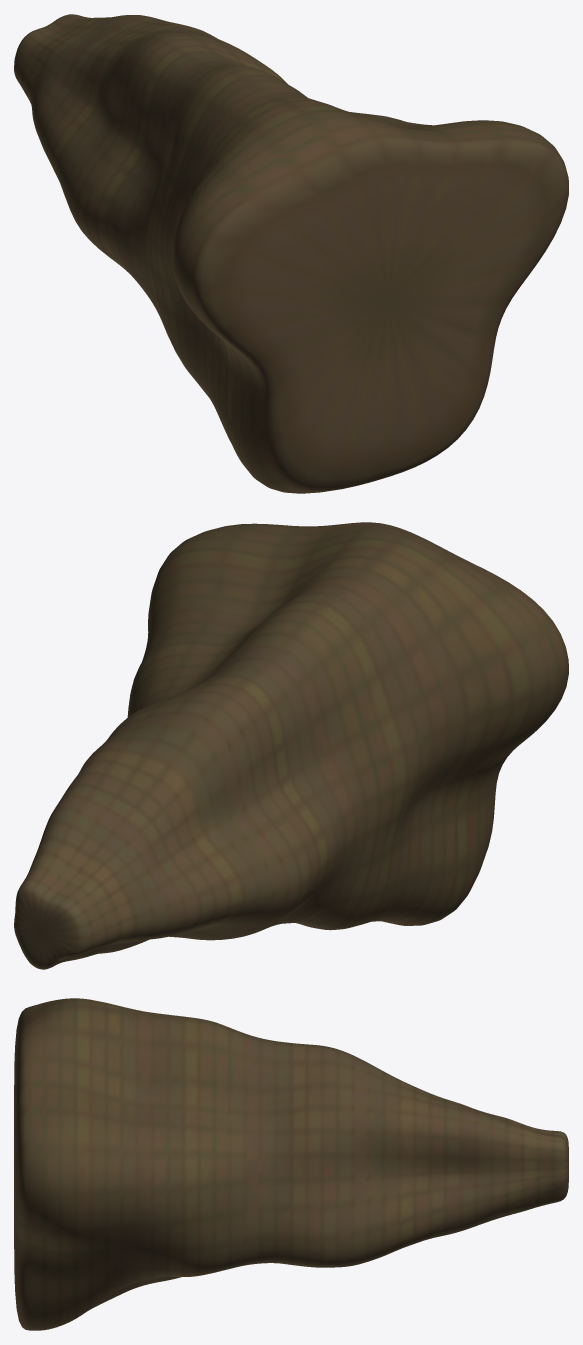
Rendered from rock_pillar.glb.
3 views of the same model, one above another, from view 1: azimuth 30°, elevation 25°; view 2: azimuth 150°, elevation 25°; view 3: azimuth 270°, elevation 25° (orthographic). The views are drawn at different scales.
Parts seen in each view (by area): view 1: RockPillar; view 2: RockPillar; view 3: RockPillar.
Part boxes in pixels (left/top/right/bottom): RockPillar: left=14, top=14, right=568, bottom=493; RockPillar: left=14, top=522, right=568, bottom=969; RockPillar: left=14, top=998, right=568, bottom=1330.
Size of the model in its own units: 0.6538 by 0.6022 by 1.
